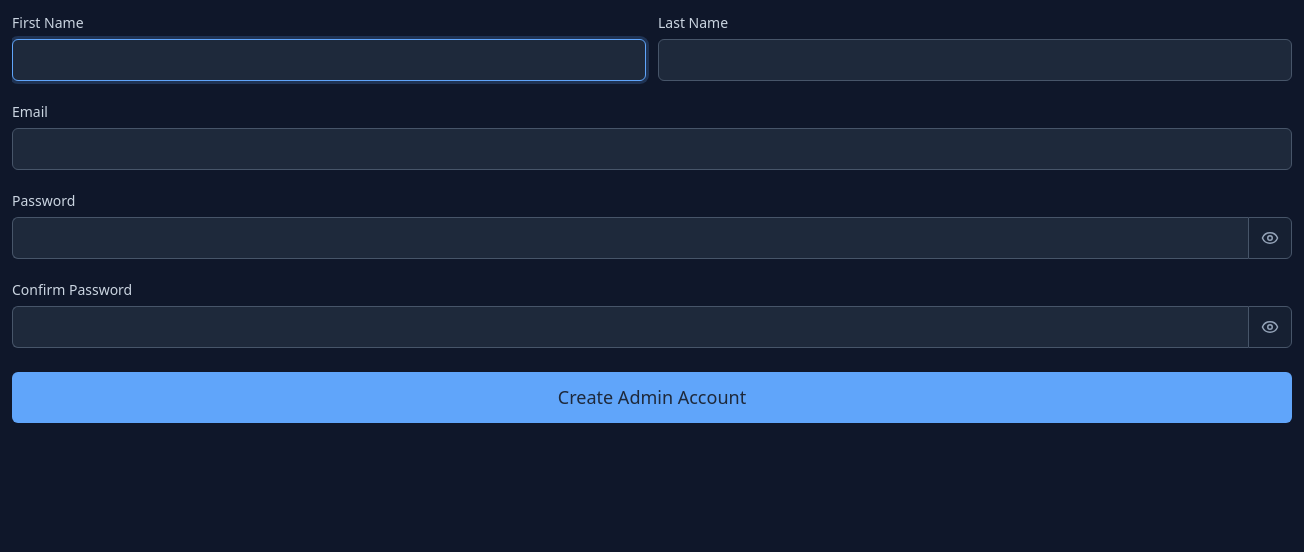
Scenario: SetupForm › validation › shows email error when submitted empty
The image size is (1304, 552).
Click the button "Create Admin Account" at [652, 398], box [12,372,1292,423]
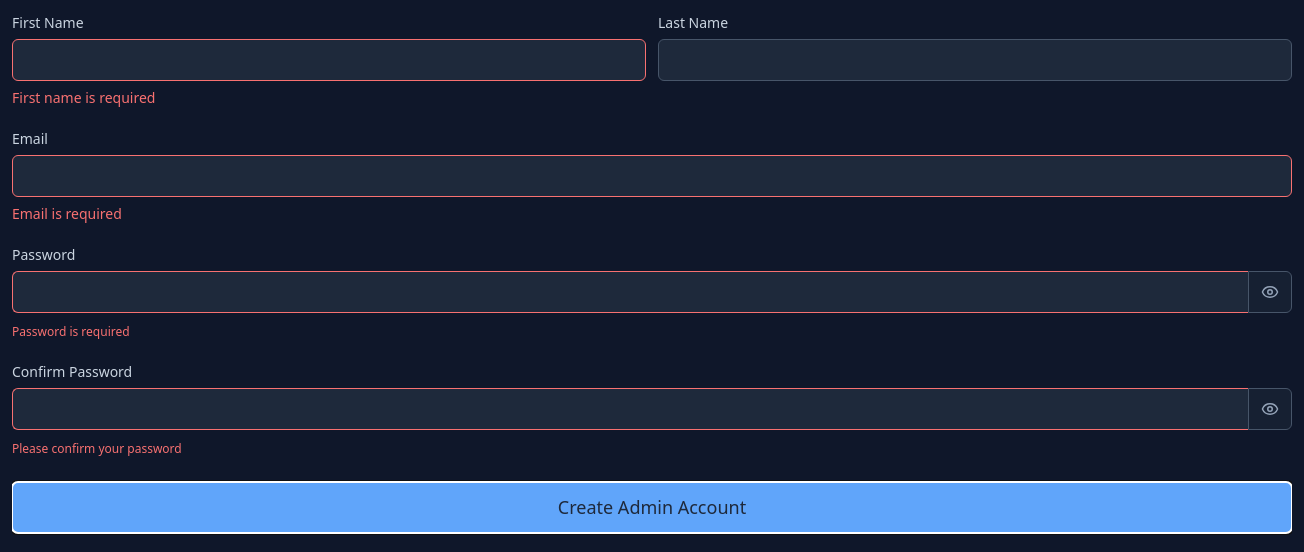
Expected: the text "Email is required" is shown, [12,204,122,223]
